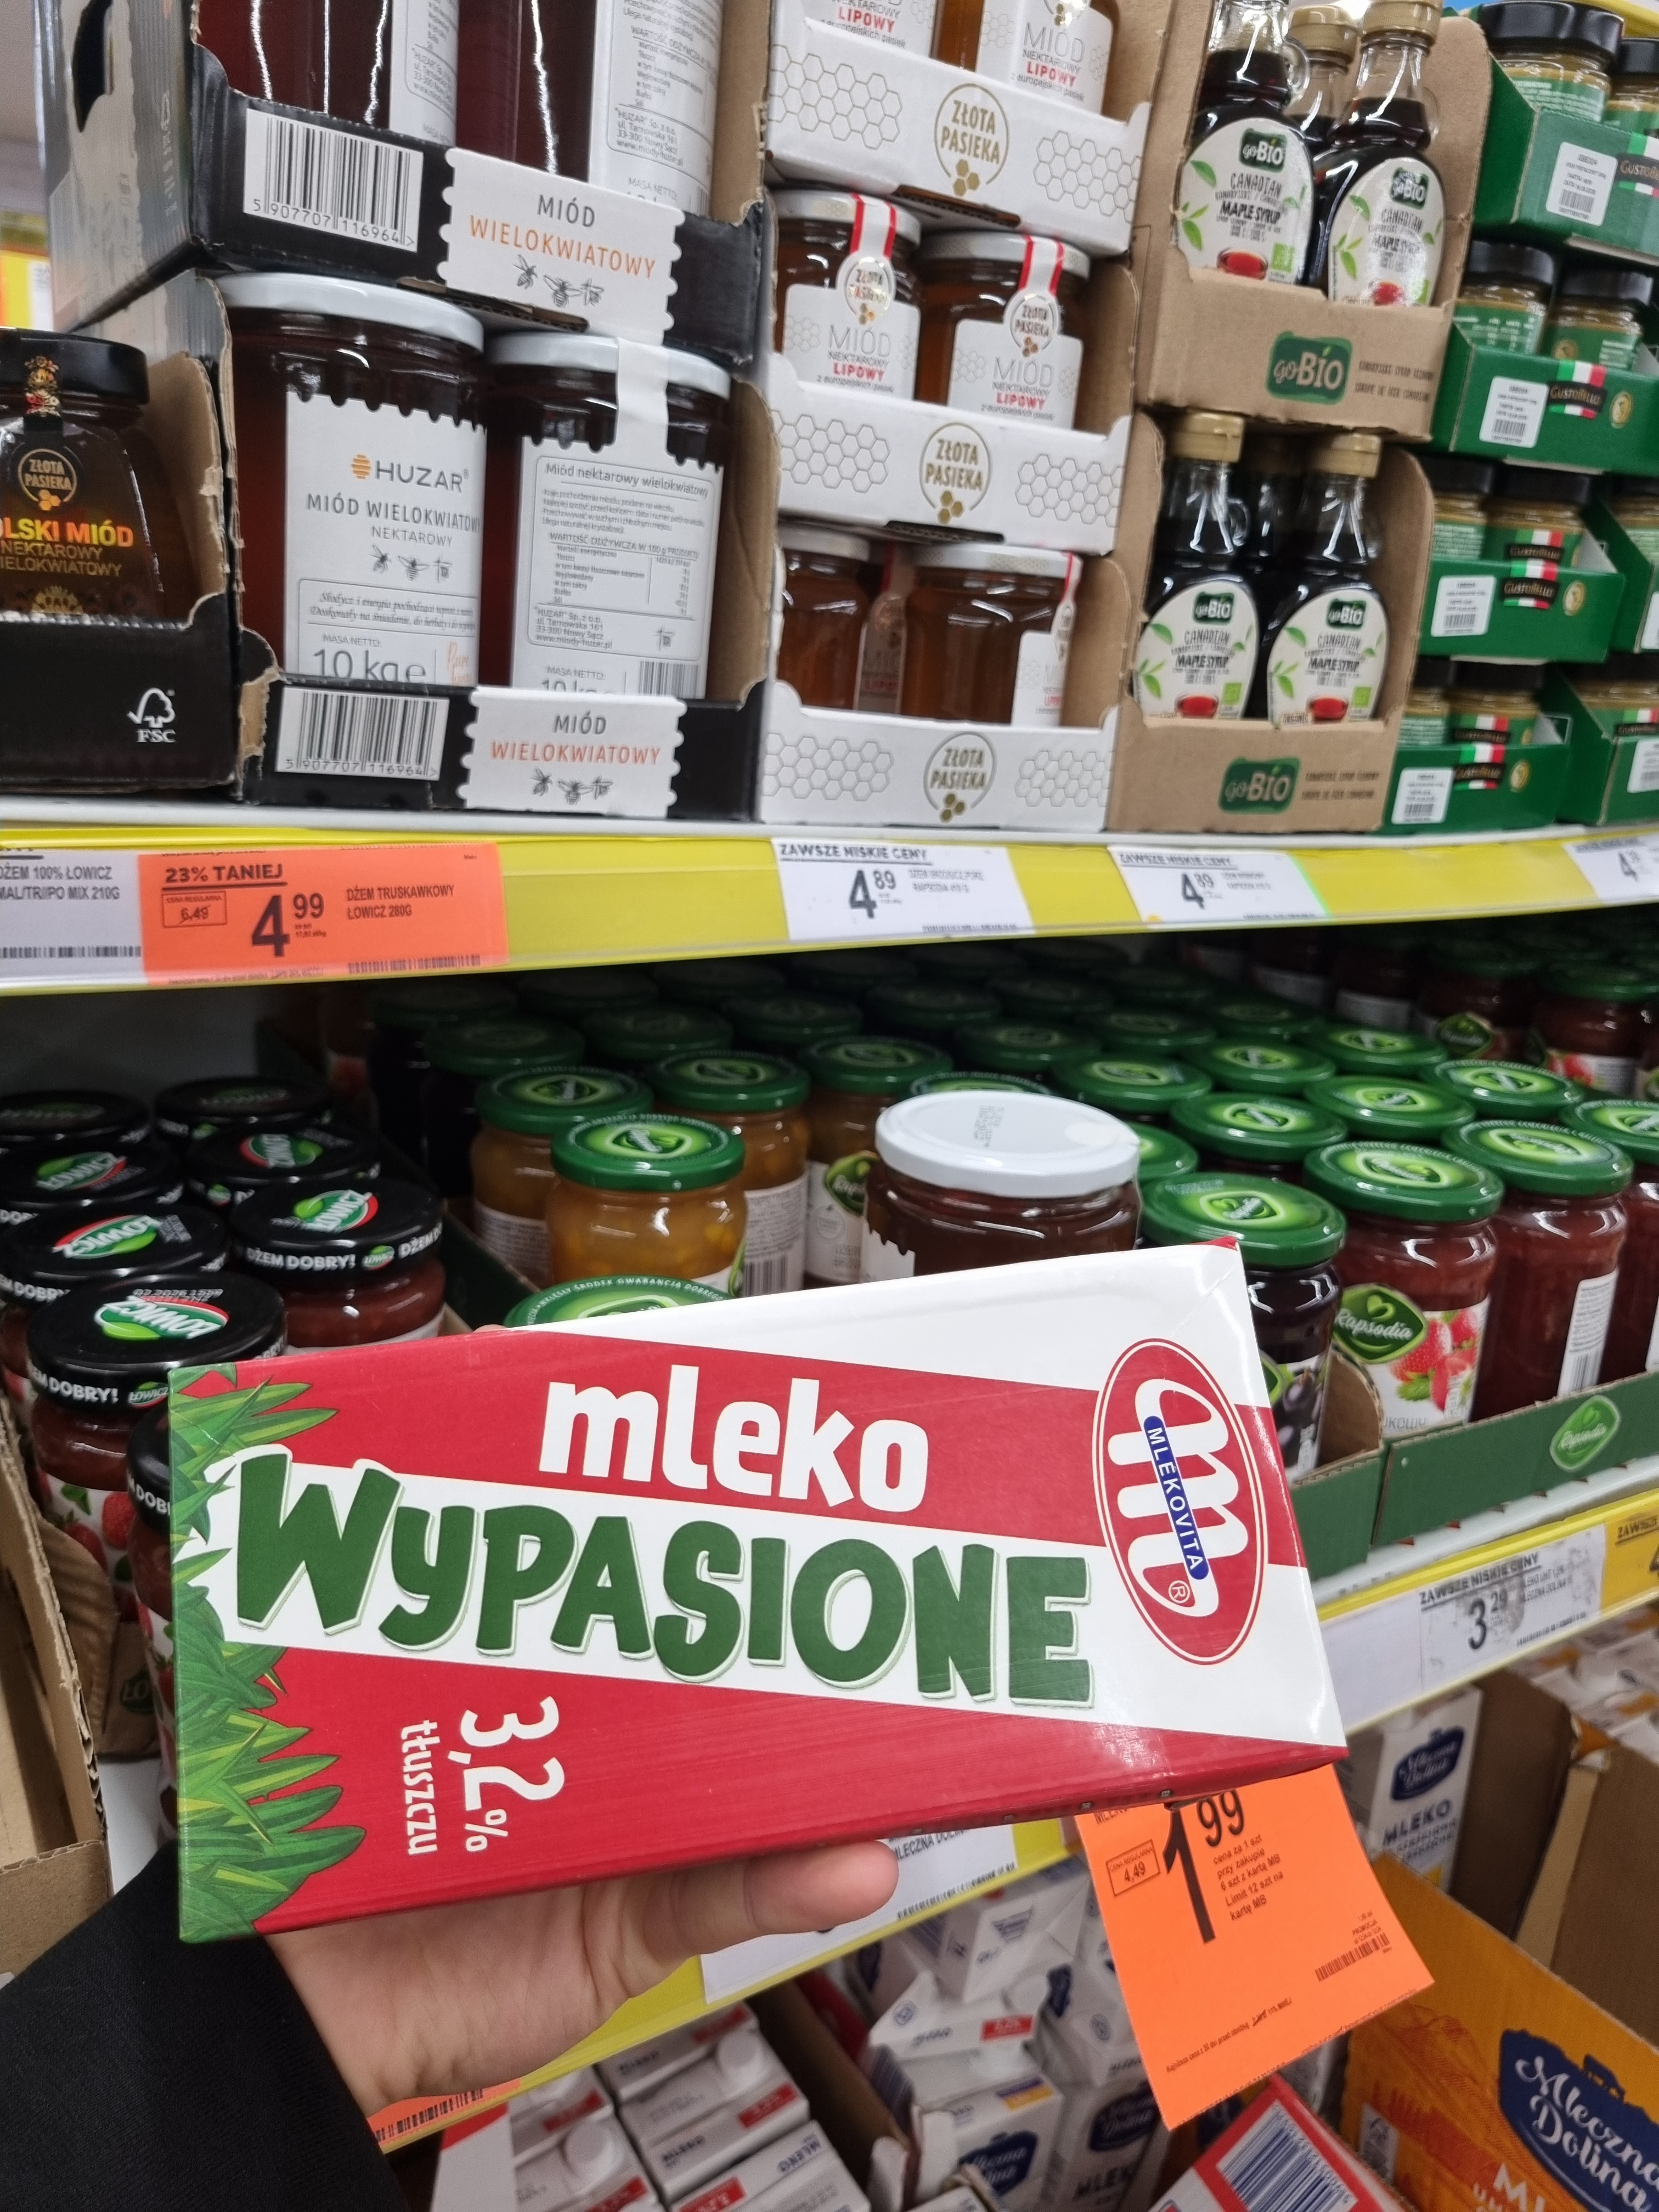Milk: (162, 1273, 1366, 1935)
